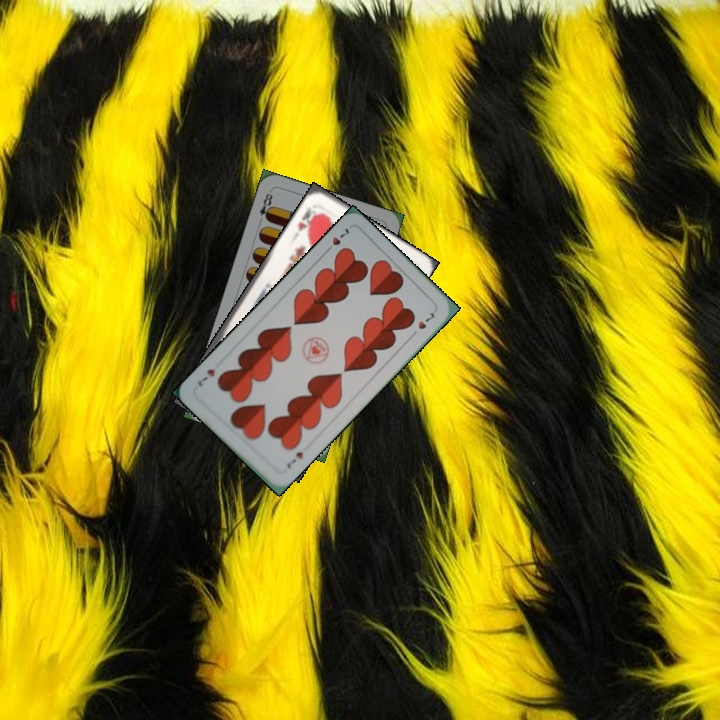E8: (255, 187, 275, 226)
H7: (321, 224, 352, 256), (282, 448, 306, 471)
HK: (293, 203, 321, 235)
